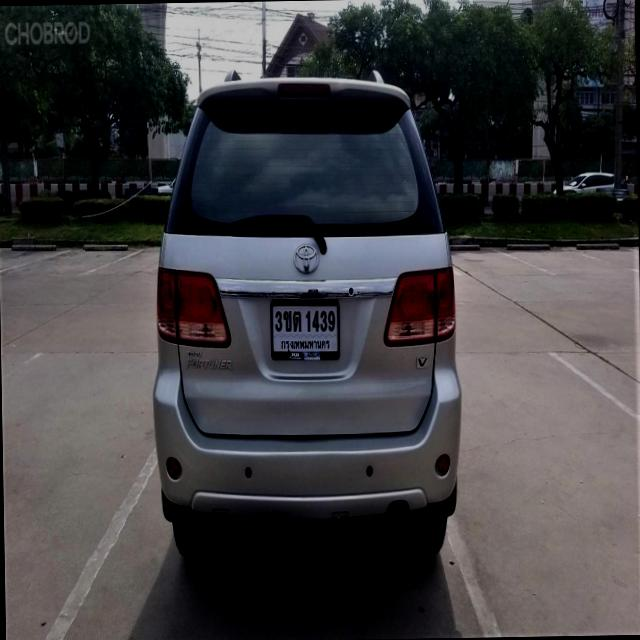license_plate: (269, 284, 345, 365)
